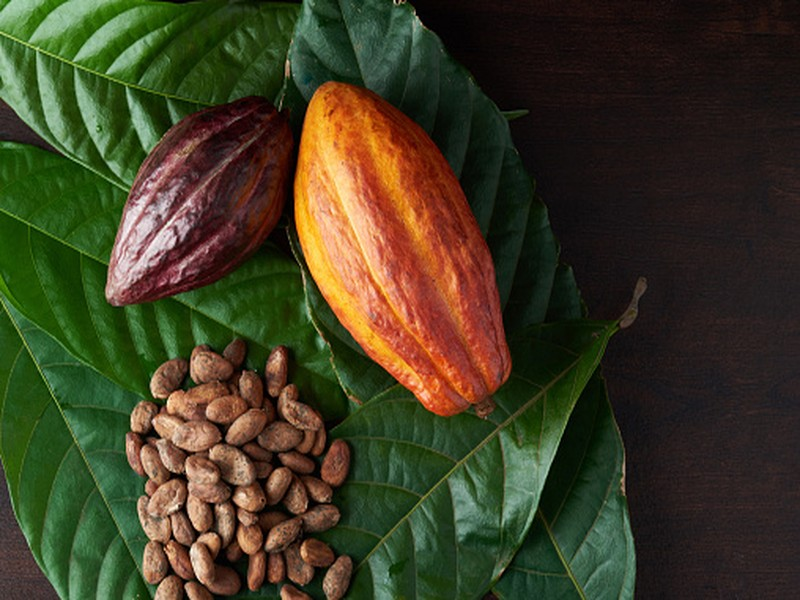Cacaopod: (291, 81, 513, 417), (102, 94, 295, 308)
